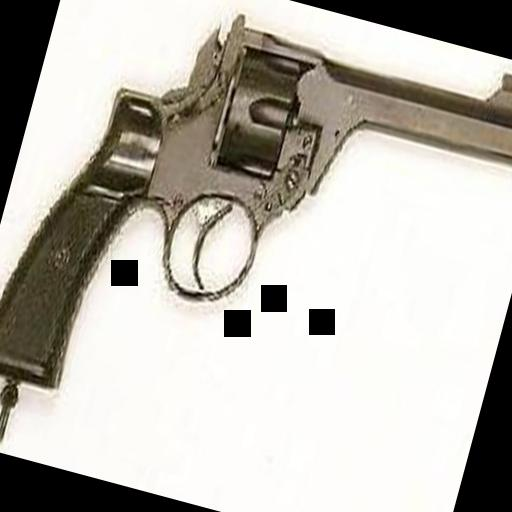Handgun: (0, 0, 512, 489)
